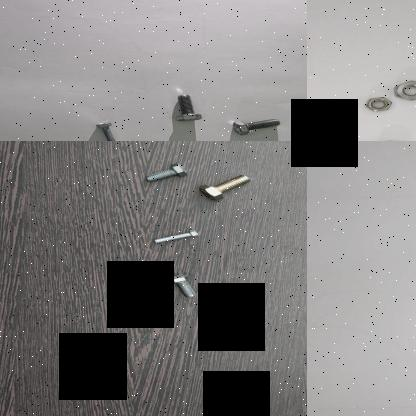Bolts: (190, 173, 260, 205), (139, 157, 195, 183), (161, 93, 203, 123), (223, 117, 280, 137), (150, 226, 202, 246), (164, 272, 204, 298), (89, 120, 125, 141), (307, 122, 326, 141)
NUTS: (364, 94, 392, 115), (392, 79, 416, 101)
